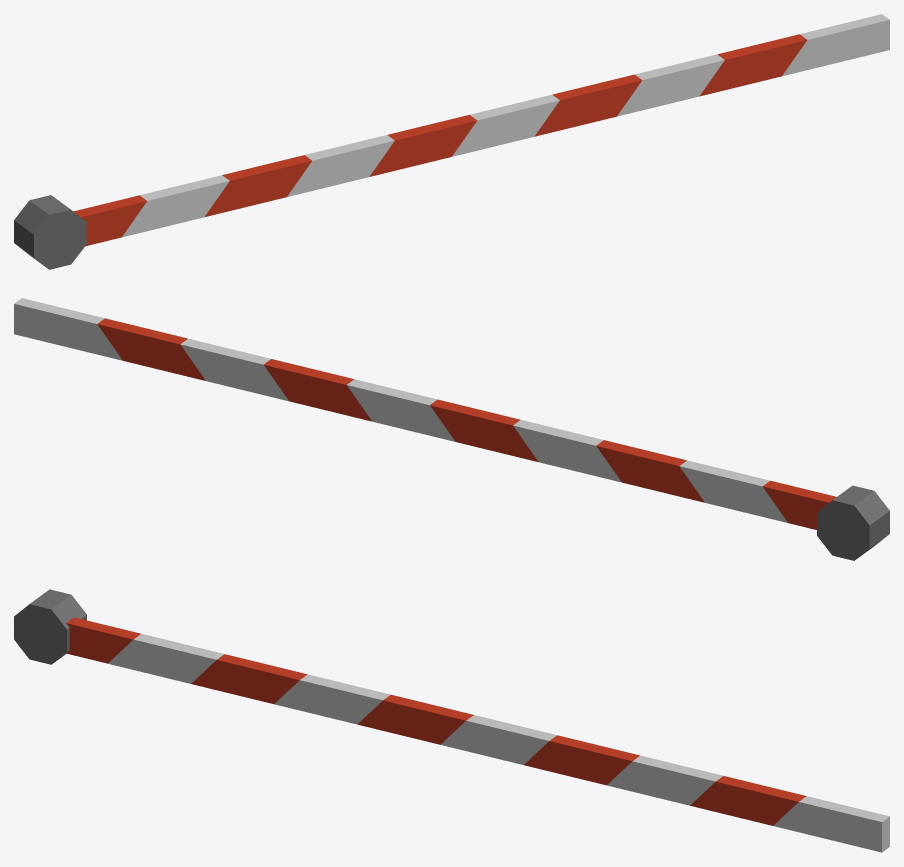
Rendered from Parking_01_2.glb.
The picture shows the model from 3 angles, top to bottom: view 1: azimuth 30°, elevation 25°; view 2: azimuth 150°, elevation 25°; view 3: azimuth 330°, elevation 25°; orthographic projection.
Visible parts, largest first — view 1: Parking_01_2; view 2: Parking_01_2; view 3: Parking_01_2.
Boxes of the visible parts, x1,y1,x2,y2 form: Parking_01_2: (14,14,889,269); Parking_01_2: (14,298,889,560); Parking_01_2: (14,589,889,852).
Size of the model in its own units: 3.46 by 0.2117 by 0.1399.
1 material, 1 textured.
